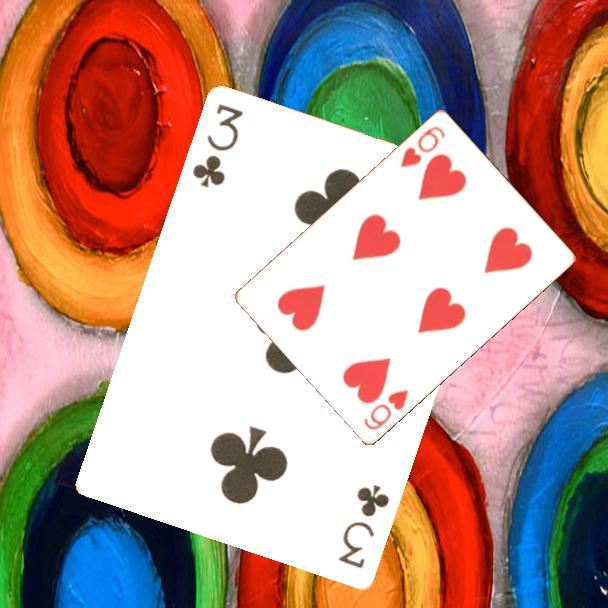c03: (335, 481, 393, 572), (189, 101, 247, 192)
h06: (360, 385, 412, 433), (397, 122, 448, 170)
